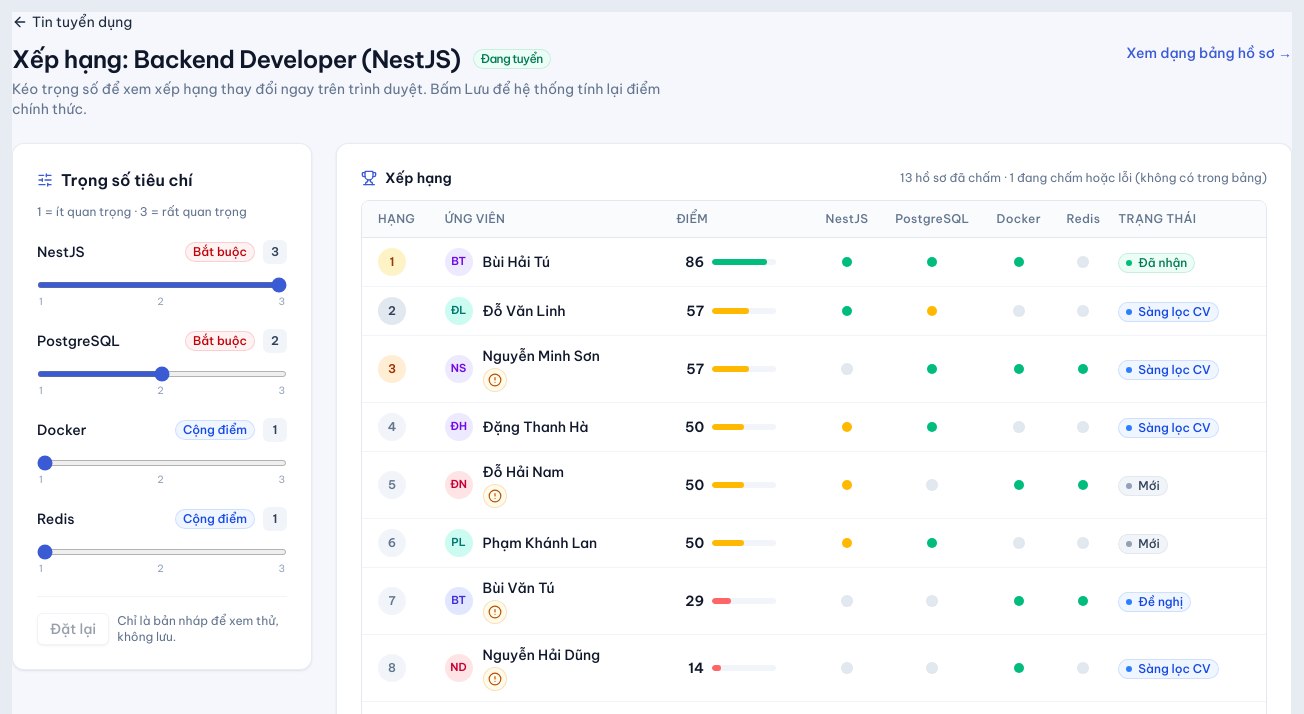
JobRankingPage › lets a Hiring Manager try weights and reset them, without a save button
Set the slider labelled "NestJS" to "1". click: (45, 285)
box: left=37, top=282, right=287, bottom=288
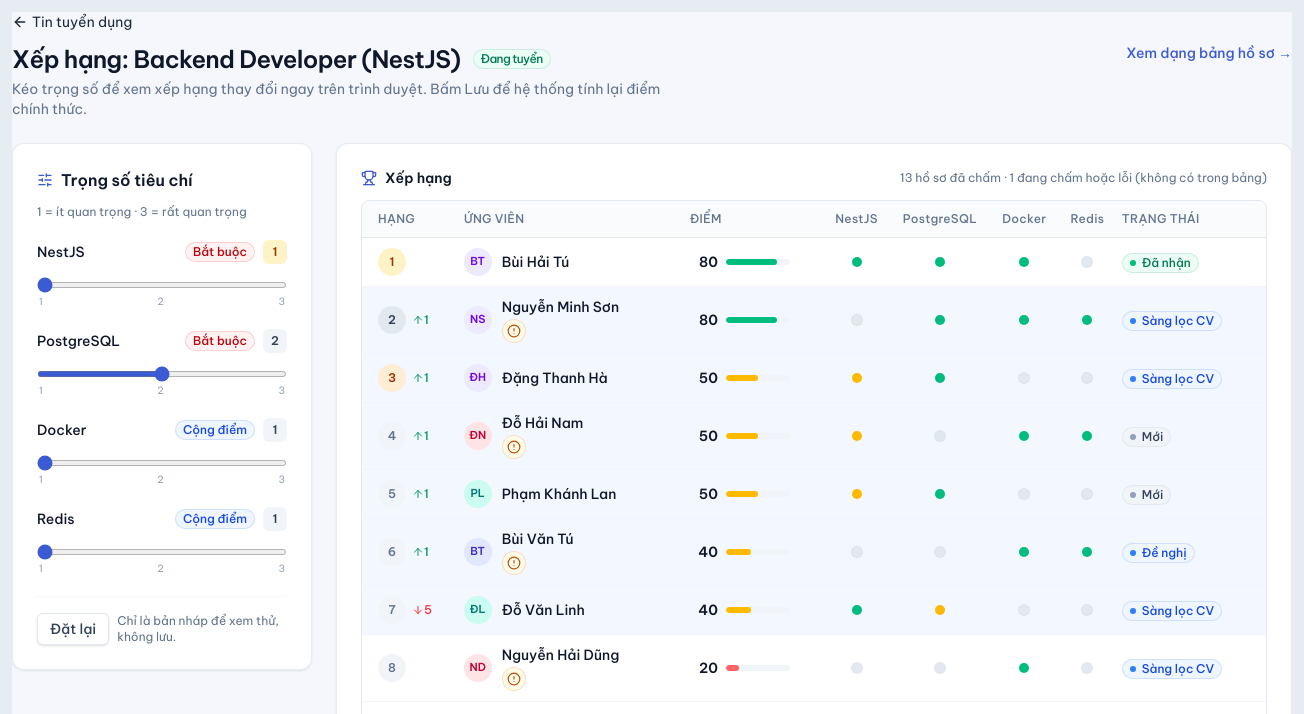
expect the text "Chỉ là bản nháp để xem thử, không lưu." is shown: met, box left=117, top=613, right=287, bottom=645
expect the button "Đặt lại" is enabled: met
Click the button "Đặt lại". click: (73, 629)
box: left=37, top=613, right=109, bottom=645
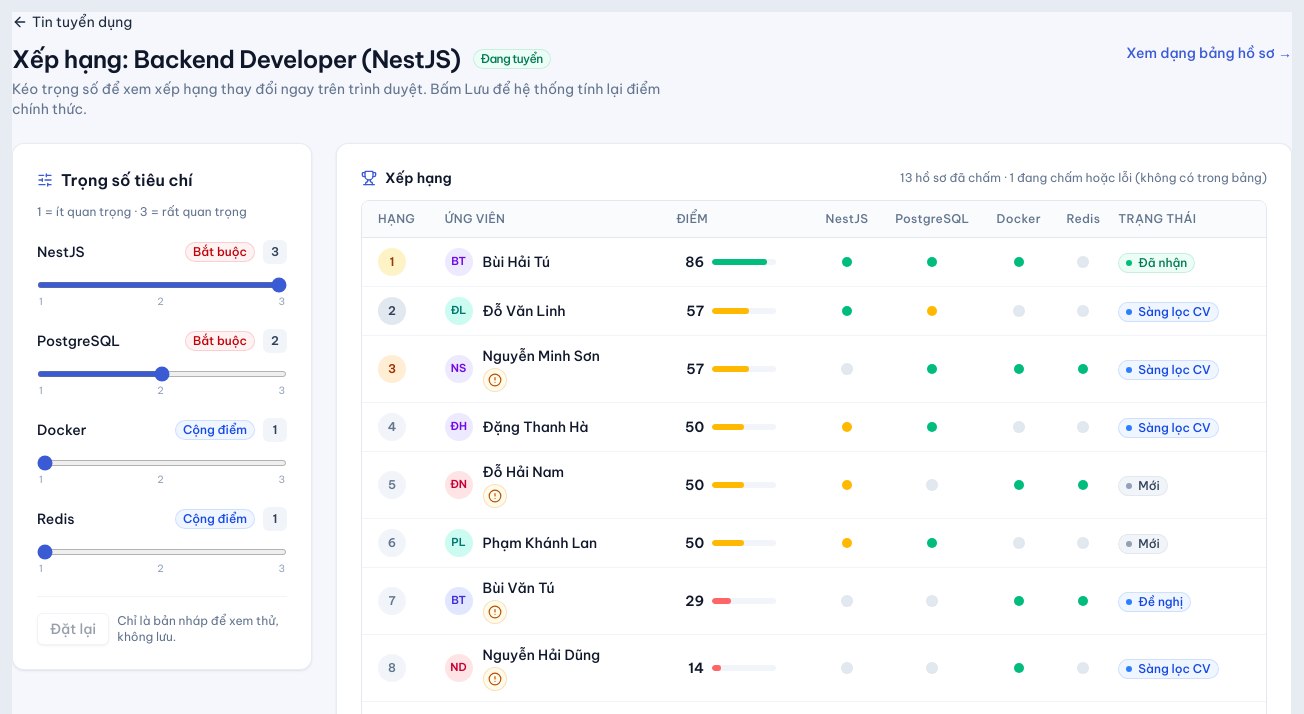
expect the button "Đặt lại" is disabled: met, box left=37, top=613, right=109, bottom=645
